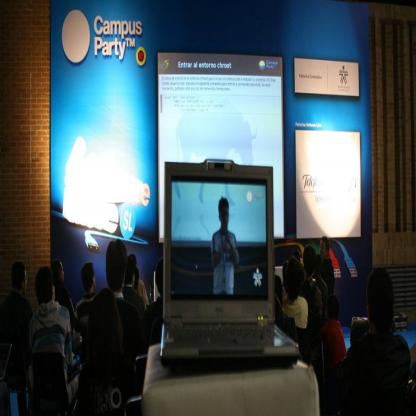board: (160, 155, 298, 376)
